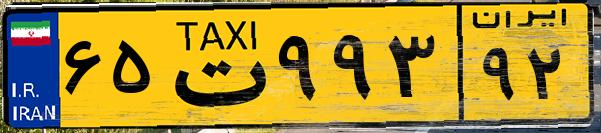2: (525, 38, 570, 115)
3: (385, 28, 445, 110)
5: (110, 28, 158, 98)
6: (57, 26, 110, 100)
9: (270, 28, 330, 110), (330, 28, 385, 110), (475, 38, 525, 113)
ت: (158, 12, 270, 120)
